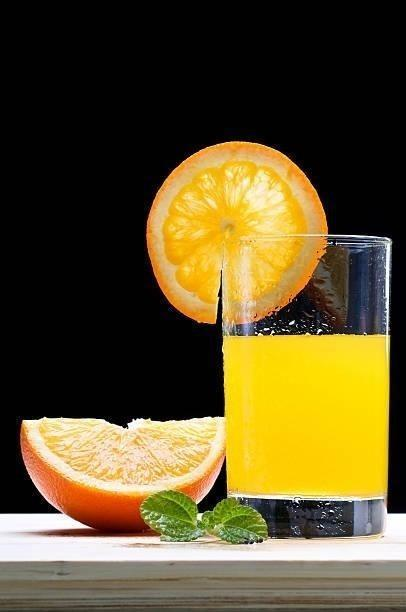glass-normal: (218, 231, 394, 538)
